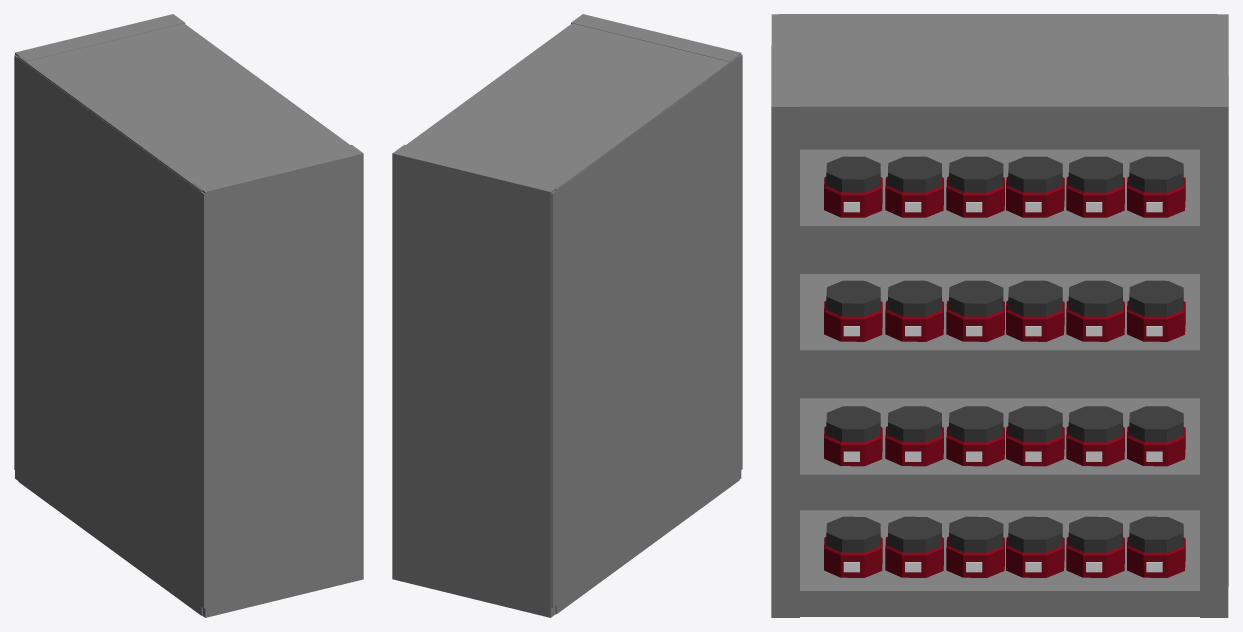
The model's file is musk_bodycream_shelf.gltf.
3 views of the same model, side by side, from view 1: azimuth 30°, elevation 25°; view 2: azimuth 150°, elevation 25°; view 3: azimuth 270°, elevation 25° (orthographic). The views are drawn at different scales.
Parts seen in each view (by area): view 1: Cube; view 2: Cube; view 3: Cube.
Part boxes in pixels (x1,y1,x2,y2): Cube: (14,14,363,617); Cube: (392,14,742,617); Cube: (771,14,1228,617).
Size of the model in its own units: 4.03 by 10.28 by 8.34.
Materials: 4 (1 with a texture image).
